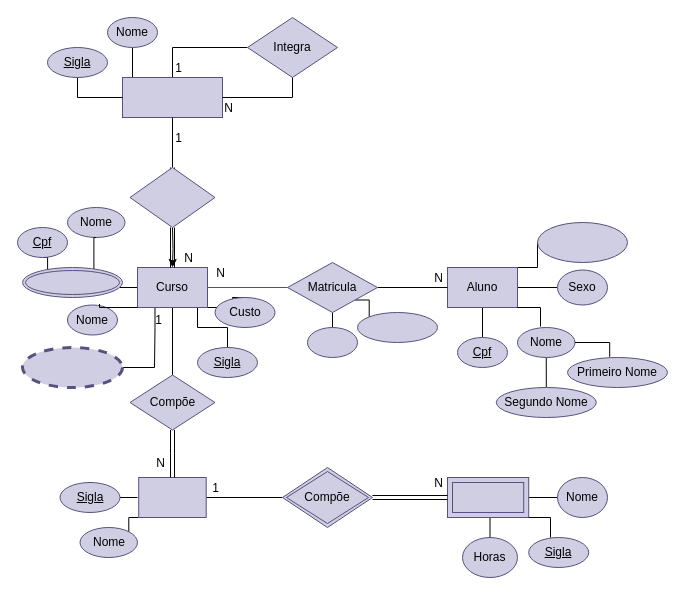
The diagram is 685 pixels wide and 595 high, and some of its shapes have lost their labels. The shapes that lost their labels are listed below. From the top down, each one's centre as x and y in pixels, then its label:
At [172,97]: "Área de Conhecimento".
At [172,197]: "Possui".
At [582,242]: "Data de nascimento".
At [72,282]: "Professores".
At [332,342]: "Data".
At [397,327]: "Pagamento".
At [72,367]: "Horas do Curso".
At [172,497]: "Módulo".
At [487,497]: "Tópico".
